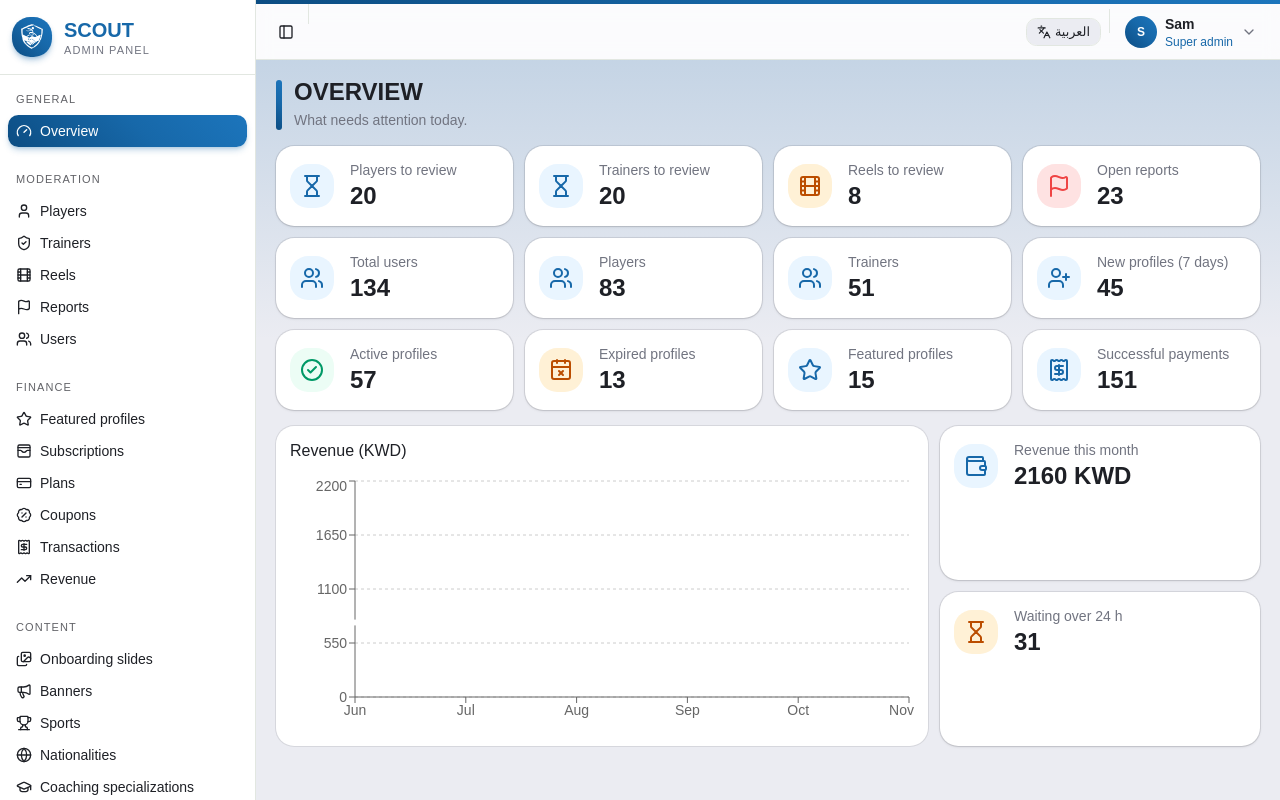
Test case: AppLayout › navigates when a menu item is clicked
This screenshot has width=1280, height=800.
Click the link "Coupons". click: x=56, y=515
box: x1=16 y1=507 x2=96 y2=523
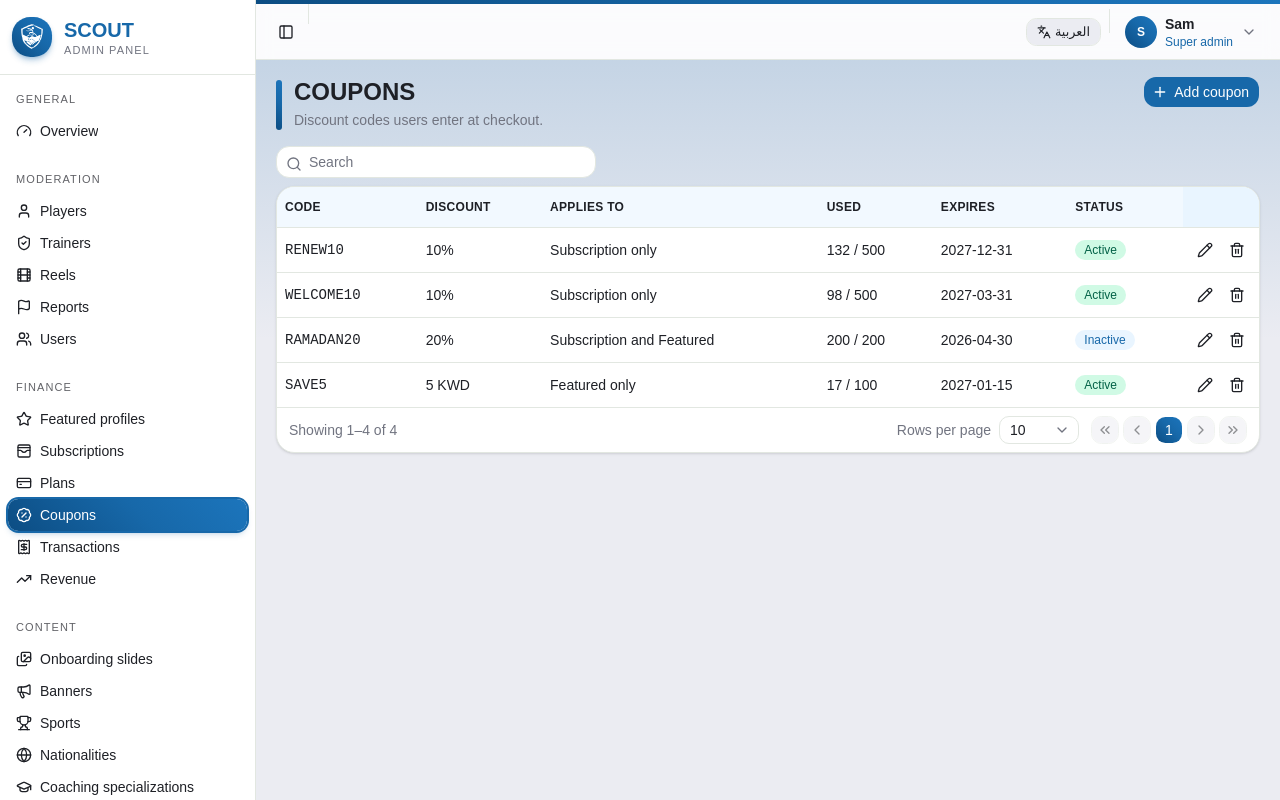
Now the heading "Coupons" is shown, box x1=294 y1=78 x2=415 y2=105
